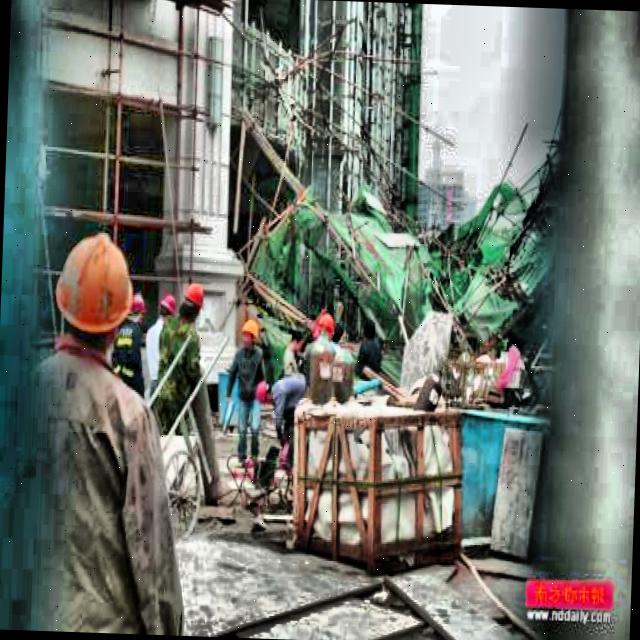helmet: (46, 232, 139, 356), (180, 280, 208, 326), (156, 282, 180, 326), (124, 284, 147, 326), (255, 376, 278, 409), (238, 316, 260, 348)
